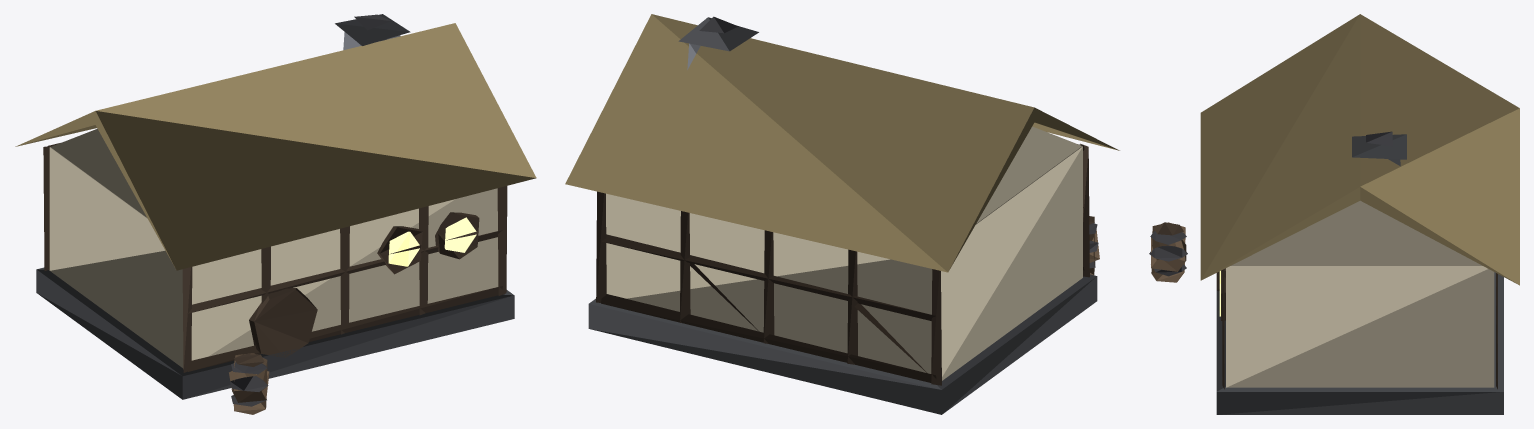
The model's file is bree_house_hobbit_1_lod1.glb.
3 renders of one model, left to right at view 1: azimuth 30°, elevation 25°; view 2: azimuth 150°, elevation 25°; view 3: azimuth 270°, elevation 25°, orthographic. The views are drawn at different scales.
Visible parts, largest first — view 1: bree_house_hobbit_1_lod1; view 2: bree_house_hobbit_1_lod1; view 3: bree_house_hobbit_1_lod1.
Boxes of the visible parts, x1=… form: bree_house_hobbit_1_lod1: x1=15, y1=14, x2=536, y2=414; bree_house_hobbit_1_lod1: x1=565, y1=14, x2=1119, y2=414; bree_house_hobbit_1_lod1: x1=1149, y1=14, x2=1519, y2=414.
Bounding box in the file's own units: 6.4 × 4.31 × 5.81.
